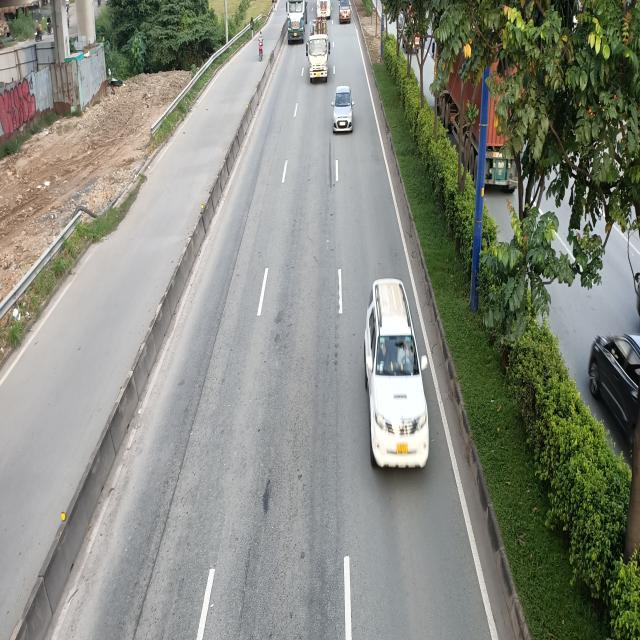car: (364, 278, 432, 470), (332, 85, 355, 132)
container: (285, 0, 307, 43)
truck: (306, 16, 331, 82)
